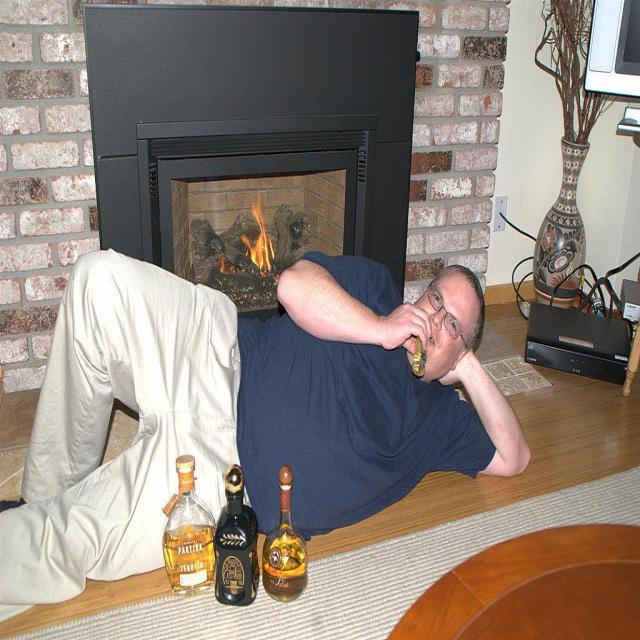Fire: (213, 198, 282, 282)
